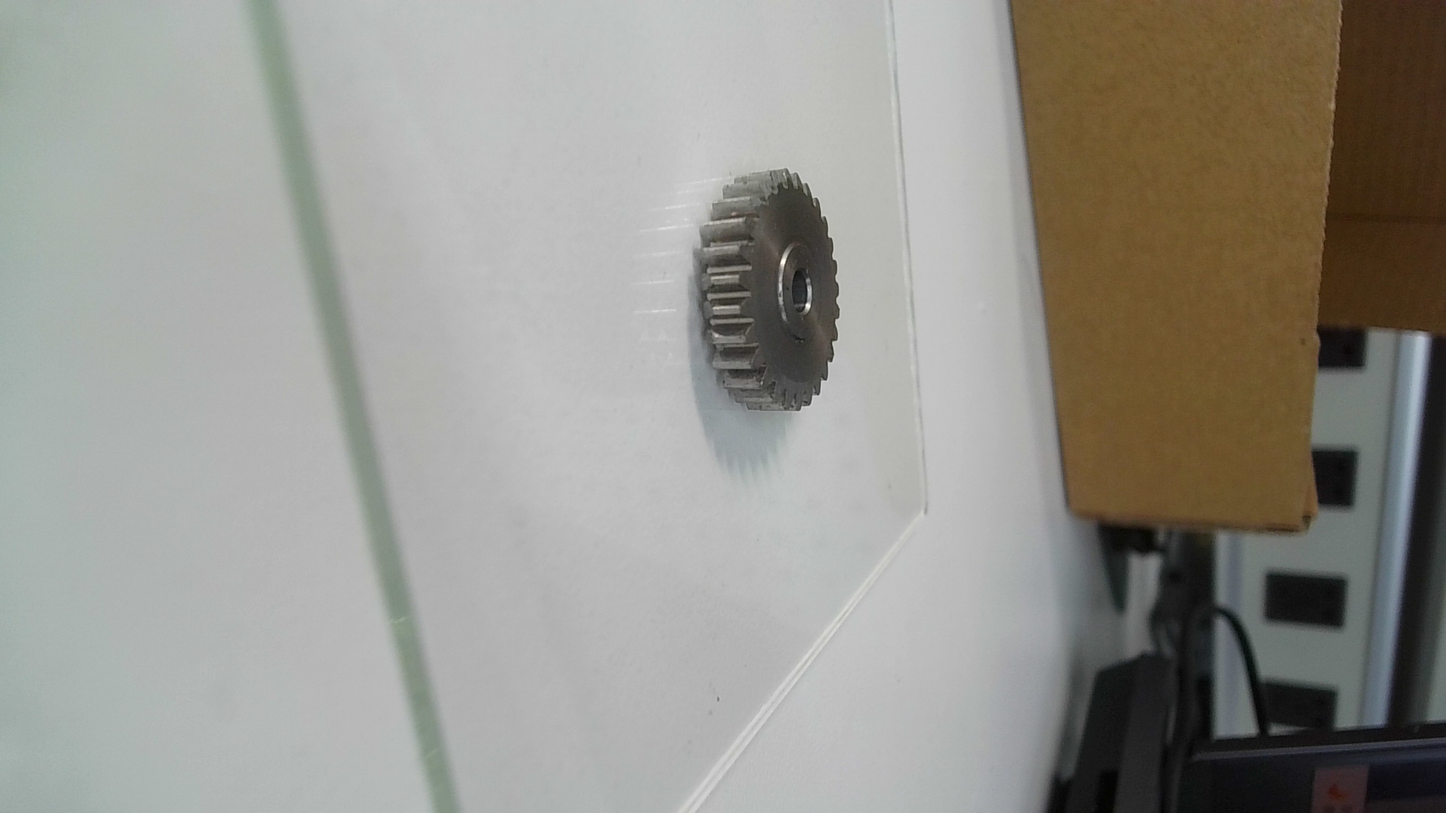gear: (699, 158, 851, 415)
